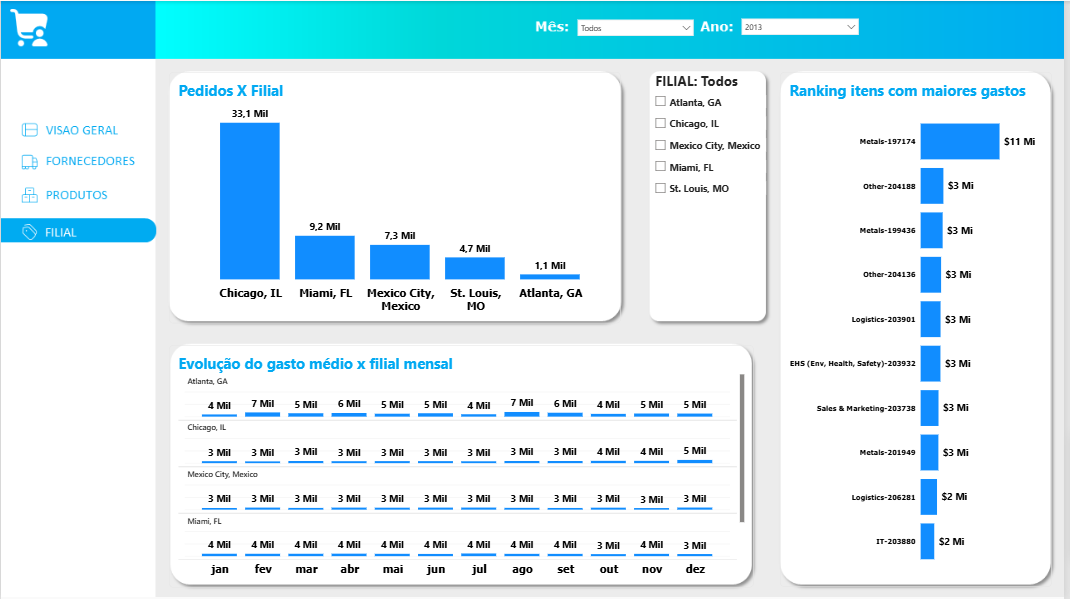

This screenshot's page, from the dashboard's own definition file:
{"tool":"powerbi","page":{"name":"Filial","canvas":[1920,1080],"ordinal":3},"visuals":[{"type":"clusteredColumnChart","title":"Pedidos X Filial","fields":{"Y":["_metricas.Total de pedidos"],"Category":["d_Filial_Location.City"]},"box":[304.3,128.5,816.4,453.5],"z":0},{"type":"clusteredBarChart","title":"Ranking itens com maiores gastos","fields":{"Y":["_metricas.Total de gastos"],"Category":["d_Item.Item"]},"box":[1407.2,128.1,490.7,930.2],"z":1000},{"type":"slicer","fields":{"Values":["d_Filial_Location.City"]},"box":[1173.5,128.5,207.9,453.5],"z":2000},{"type":"clusteredColumnChart","title":"Evolução do gasto médio x filial mensal","fields":{"Y":["_metricas.Gasto médio por pedido"],"Category":["d_calendario.Mon"],"Rows":["d_Filial_Location.City"]},"box":[303.5,620.8,1056.4,437.5],"z":3000},{"type":"slicer","fields":{"Values":["d_calendario.Month"]},"box":[1037.5,28.3,219.2,39.7],"z":4000},{"type":"slicer","fields":{"Values":["d_calendario.Year"]},"box":[1332.3,27.6,220.7,41.4],"z":5000},{"type":"actionButton","box":[0,208.9,281.8,45.3],"z":6000},{"type":"actionButton","box":[0,266.1,281.8,45.3],"z":7000},{"type":"actionButton","box":[0,327.2,281.8,45.3],"z":8000}]}

Visuals, with their boxes on the page's 1920x1080 design canvas (x1, y1, x2, y2). These are canvas units, not pixel positions in the 1070x599 screenshot, which may show the page scaled, cropped or inside an application window:
"Pedidos X Filial" clusteredColumnChart: locate(304, 128, 1121, 582)
"Ranking itens com maiores gastos" clusteredBarChart: locate(1407, 128, 1898, 1058)
slicer - d_Filial_Location.City: locate(1174, 128, 1381, 582)
"Evolução do gasto médio x filial mensal" clusteredColumnChart: locate(304, 621, 1360, 1058)
slicer - d_calendario.Month: locate(1038, 28, 1257, 68)
slicer - d_calendario.Year: locate(1332, 28, 1553, 69)
actionButton: locate(0, 209, 282, 254)
actionButton: locate(0, 266, 282, 311)
actionButton: locate(0, 327, 282, 372)
